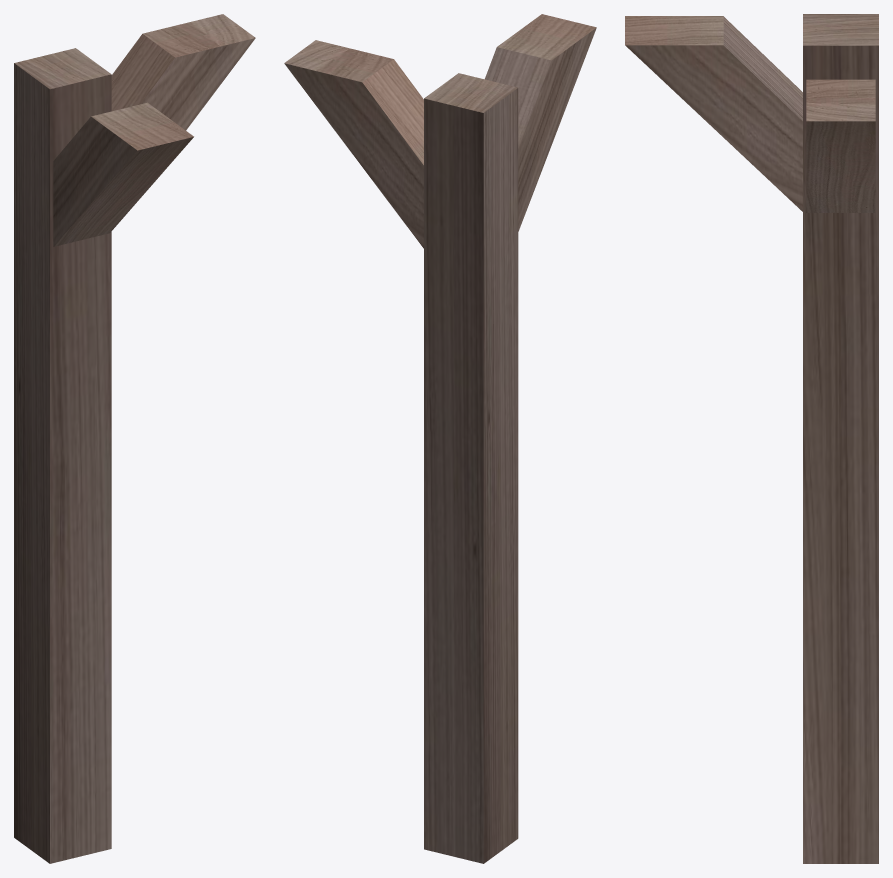
Rendered from CornerArch.fbx.
The picture shows the model from 3 angles, left to right: view 1: azimuth 30°, elevation 25°; view 2: azimuth 150°, elevation 25°; view 3: azimuth 270°, elevation 25°; orthographic projection. The views are drawn at different scales.
Visible parts, largest first — view 1: Corner Arch; view 2: Corner Arch; view 3: Corner Arch.
Boxes of the visible parts, left/top/right/bottom form: Corner Arch: left=14, top=14, right=255, bottom=863; Corner Arch: left=284, top=14, right=596, bottom=863; Corner Arch: left=625, top=14, right=878, bottom=863.
Bounding box in the file's own units: 168 × 600 × 169.
